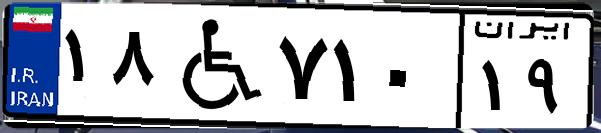0: (385, 28, 445, 110)
1: (330, 28, 385, 110), (57, 26, 110, 100), (475, 38, 525, 113)
7: (270, 28, 330, 110)
8: (110, 28, 158, 98)
9: (525, 38, 570, 115)
ژ (معلولین و جانبازان): (158, 12, 270, 120)
